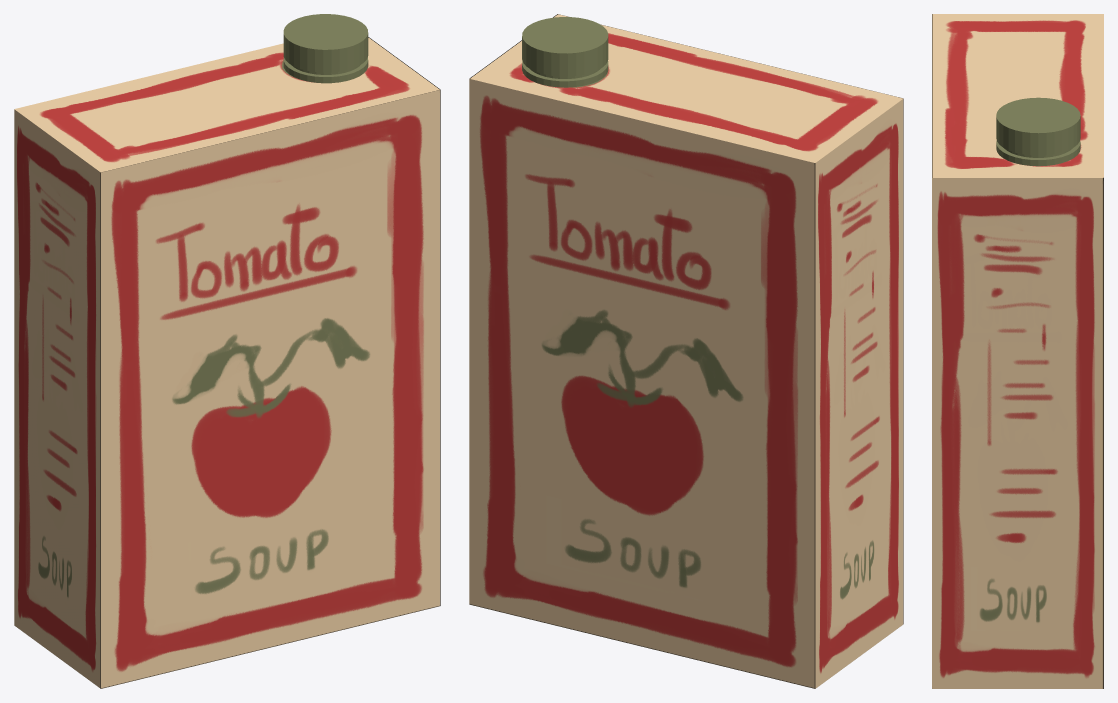
The model's file is Tomato_soop.glb.
3 views of the same model, side by side, from view 1: azimuth 30°, elevation 25°; view 2: azimuth 150°, elevation 25°; view 3: azimuth 270°, elevation 25° (orthographic). The views are drawn at different scales.
Visible parts, largest first — view 1: Tomato_soop.001; view 2: Tomato_soop.001; view 3: Tomato_soop.001.
Part boxes in pixels (x1,y1,x2,y2): Tomato_soop.001: [14, 14, 440, 688]; Tomato_soop.001: [469, 14, 903, 688]; Tomato_soop.001: [932, 14, 1103, 688].
Size of the model in its own units: 0.4656 by 0.7197 by 0.206.
Materials: 1 (1 with a texture image).
